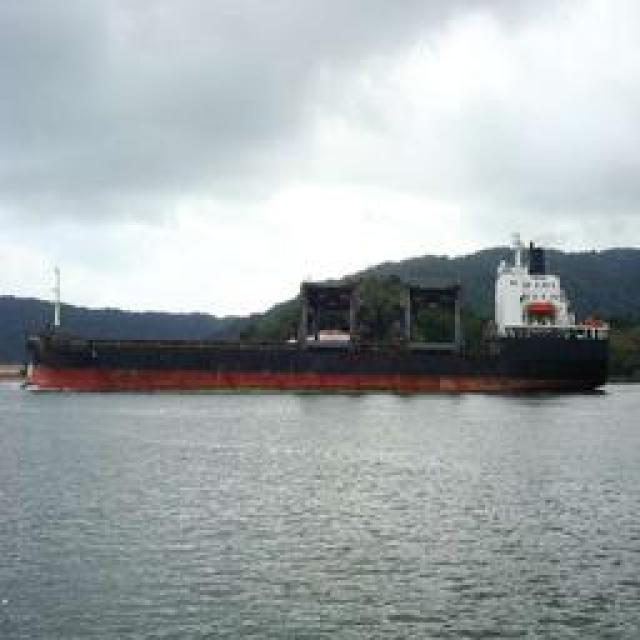Ship: (25, 267, 603, 397)
